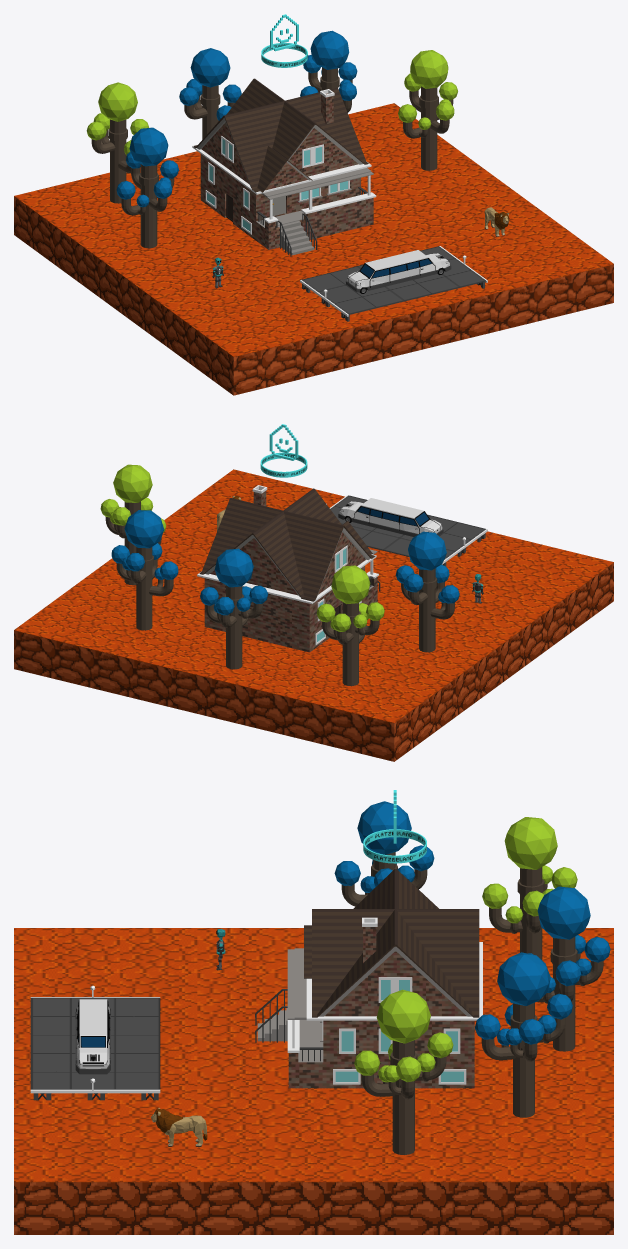
3 views of the same model, one above another, from view 1: azimuth 30°, elevation 25°; view 2: azimuth 150°, elevation 25°; view 3: azimuth 270°, elevation 25° (orthographic). The views are drawn at different scales.
Parts seen in each view (by area): view 1: Cube.001, Cube.117, VEHICLES_LIMOUSINE, TYPE_PREMIUM; view 2: Cube.001, Cube.117, VEHICLES_LIMOUSINE, TYPE_PREMIUM; view 3: Cube.001, Cube.117, VEHICLES_LIMOUSINE, TYPE_PREMIUM, ANIMAL_LEON.
Boxes of the visible parts, <box> form: Cube.001: <box>14,30,613,395</box>; Cube.117: <box>192,78,376,256</box>; VEHICLES_LIMOUSINE: <box>346,250,451,293</box>; TYPE_PREMIUM: <box>261,14,307,67</box>; Cube.001: <box>14,464,613,761</box>; Cube.117: <box>197,485,380,652</box>; VEHICLES_LIMOUSINE: <box>338,498,443,536</box>; TYPE_PREMIUM: <box>260,424,307,477</box>; Cube.001: <box>14,801,613,1234</box>; Cube.117: <box>255,869,482,1088</box>; VEHICLES_LIMOUSINE: <box>75,999,110,1074</box>; TYPE_PREMIUM: <box>363,790,426,863</box>; ANIMAL_LEON: <box>151,1108,207,1147</box>.
Bounding box in the file's own units: 4000 × 2413 × 4000.
38 materials, 6 textured.
